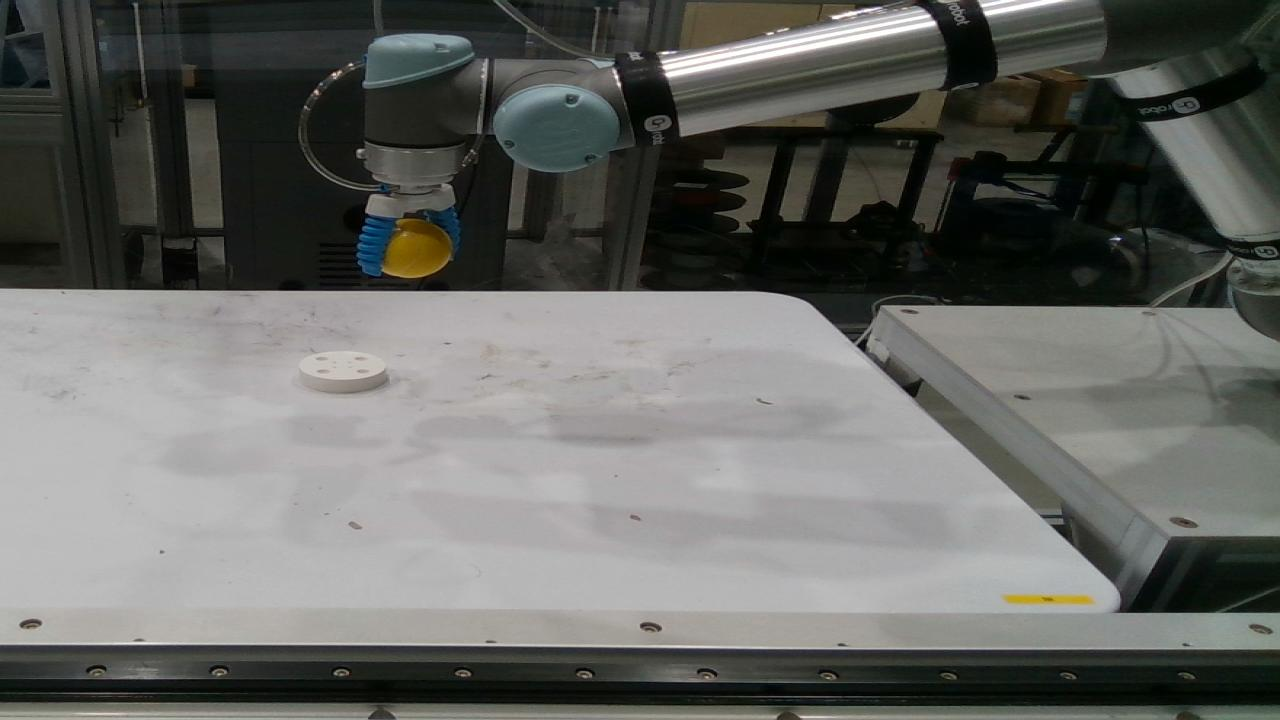UR5: (358, 0, 1279, 340)
gripper_left: (425, 204, 461, 254)
gripper_right: (358, 215, 397, 276)
target: (365, 218, 453, 278), (299, 350, 387, 393)
